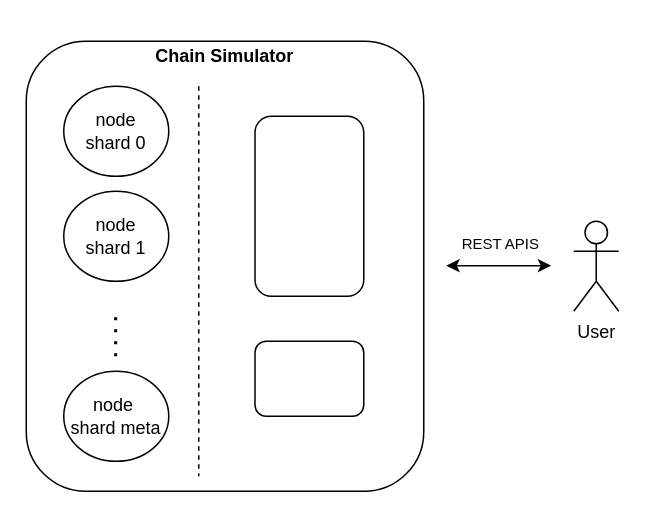
This 645x518 diagram has some shape labels left out. The shapes that lost their labels are listed below. From the top down, each one's centre as x and y in pixels, then its label:
the point at 309,205: proxy endpoints
the point at 309,378: new endpoints
